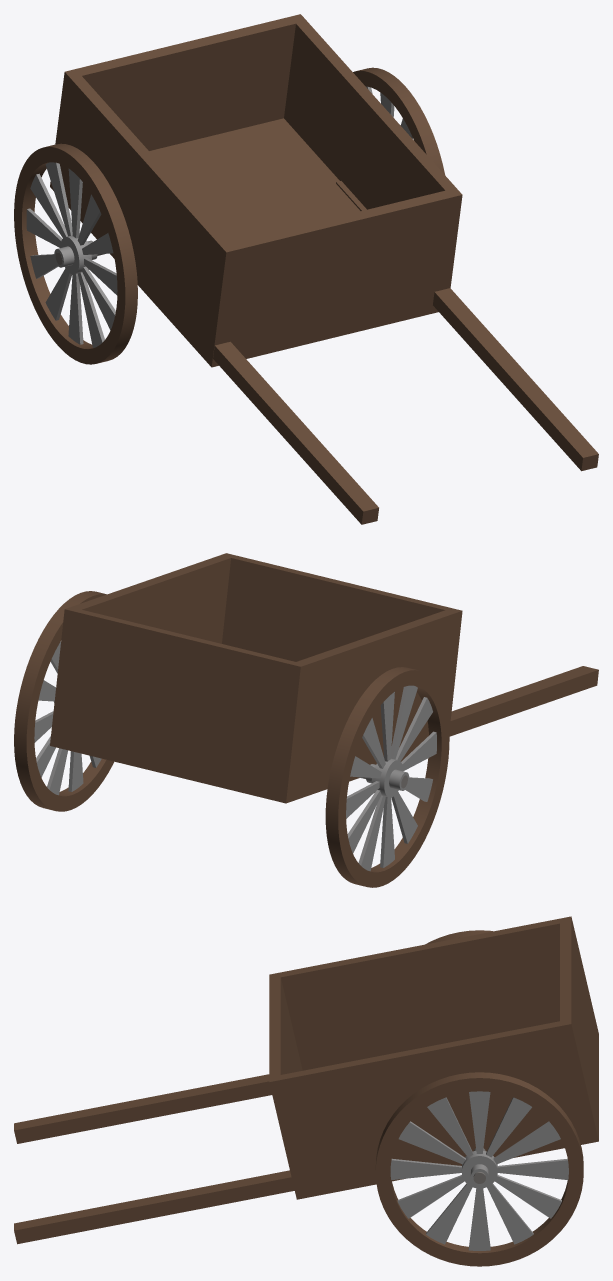
3 renders of one model, top to bottom at view 1: azimuth 30°, elevation 25°; view 2: azimuth 150°, elevation 25°; view 3: azimuth 270°, elevation 25°, orthographic. The views are drawn at different scales.
Visible parts, largest first — view 1: handcart; view 2: handcart; view 3: handcart.
Part boxes in pixels (bbox=[...]): handcart: bbox=[14, 14, 598, 524]; handcart: bbox=[14, 553, 598, 887]; handcart: bbox=[14, 916, 598, 1266].
Size of the model in its own units: 0.6363 by 0.4166 by 0.9924.
